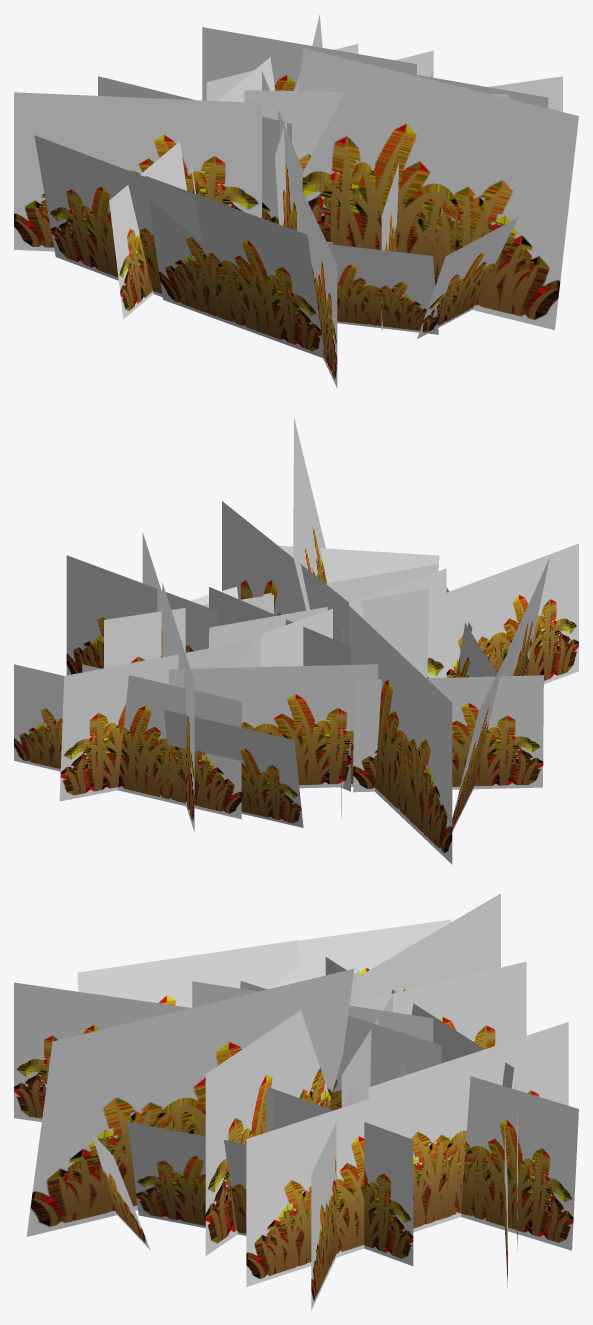
The model's file is high_grass_03.gltf.
The picture shows the model from 3 angles, top to bottom: view 1: azimuth 30°, elevation 25°; view 2: azimuth 150°, elevation 25°; view 3: azimuth 270°, elevation 25°; orthographic projection. The views are drawn at different scales.
Parts seen in each view (by area): view 1: default; view 2: default; view 3: default.
Part boxes in pixels (bbox=[...]): default: bbox=[14, 15, 578, 387]; default: bbox=[14, 418, 578, 864]; default: bbox=[14, 893, 578, 1309].
Size of the model in its own units: 1.91 by 0.7728 by 1.84.
1 material, 1 textured.
